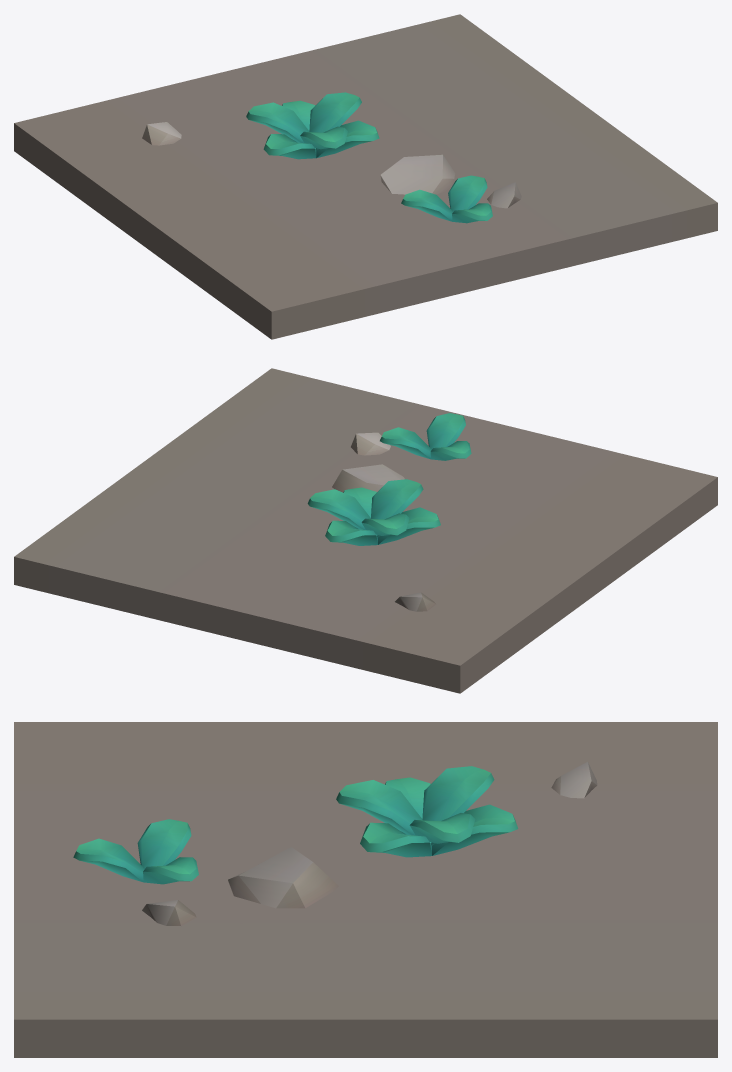
File: floor_dirt_small_weeds.glb
The picture shows the model from 3 angles, top to bottom: view 1: azimuth 30°, elevation 25°; view 2: azimuth 150°, elevation 25°; view 3: azimuth 270°, elevation 25°; orthographic projection. The views are drawn at different scales.
Parts seen in each view (by area): view 1: floor_dirt_small_weeds; view 2: floor_dirt_small_weeds; view 3: floor_dirt_small_weeds.
Part boxes in pixels (x1,y1,x2,y2): floor_dirt_small_weeds: [14, 14, 717, 339]; floor_dirt_small_weeds: [14, 368, 717, 693]; floor_dirt_small_weeds: [14, 722, 717, 1057].
Size of the model in its own units: 2 by 0.2954 by 2.
Materials: 1 (1 with a texture image).
